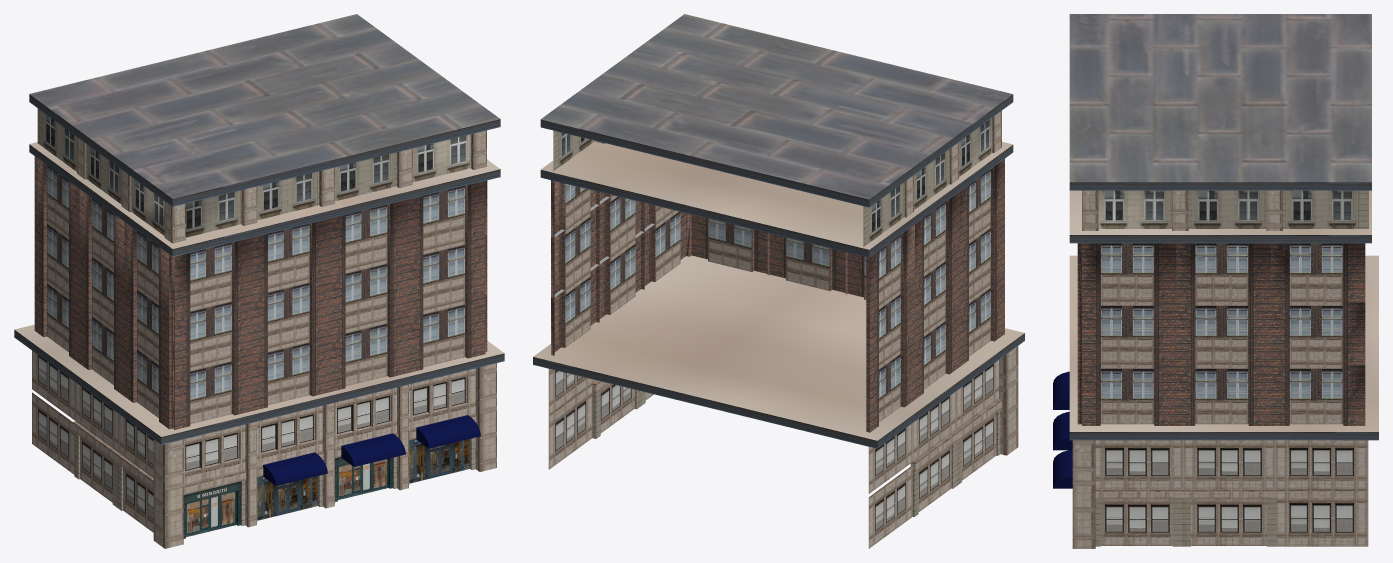
The model's file is Monorito.fbx.
3 renders of one model, left to right at view 1: azimuth 30°, elevation 25°; view 2: azimuth 150°, elevation 25°; view 3: azimuth 270°, elevation 25°, orthographic. The views are drawn at different scales.
Visible parts, largest first — view 1: Build_Minoritu; view 2: Build_Minoritu; view 3: Build_Minoritu.
Part boxes in pixels (x1,y1,x2,y2): Build_Minoritu: (14, 14, 504, 548); Build_Minoritu: (533, 14, 1024, 548); Build_Minoritu: (1053, 14, 1378, 548).
Bounding box in the file's own units: 948 × 922 × 741.
1 material, 1 textured.
